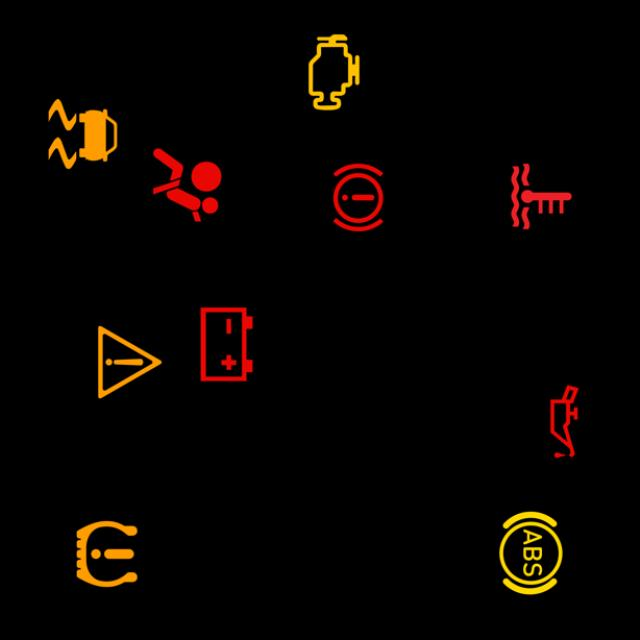Anti Lock Braking System: (485, 508, 575, 598)
Braking System Issue: (312, 152, 402, 242)
Charging System Issue: (180, 300, 270, 390)
Check Engine: (288, 28, 378, 118)
Electronic Stability Problem -ESP-: (37, 89, 127, 179)
Engine Overheating Warning Light: (496, 152, 586, 242)
Low Engine Oil Warning Light: (518, 376, 608, 467)
Low Tire Pressure Warning Light: (61, 508, 151, 600)
Master warning light: (84, 317, 174, 407)
SRS-Airbag: (141, 140, 231, 230)
